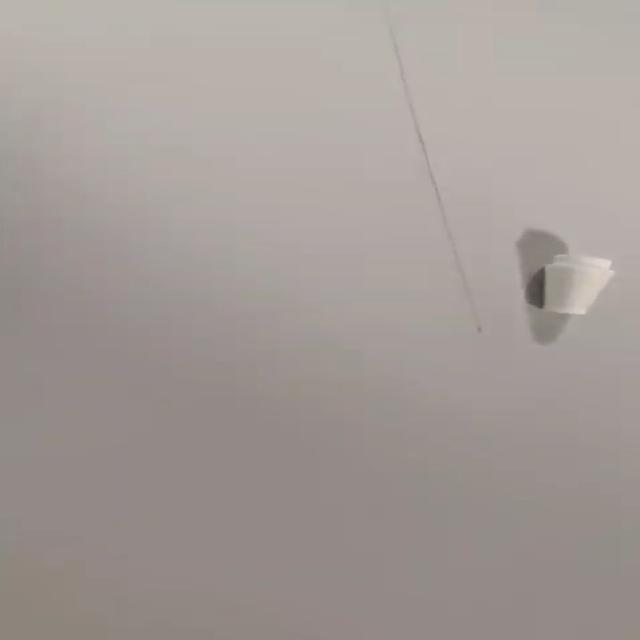Z1x1x1: (536, 254, 622, 316)
